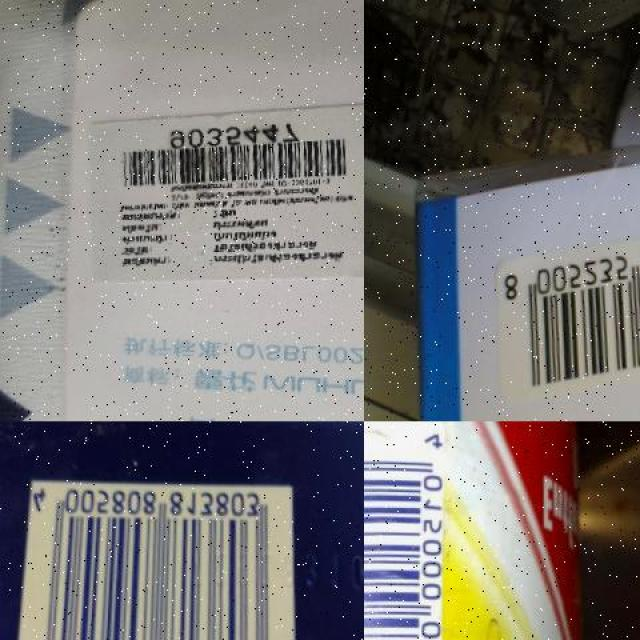Barcode: (13, 477, 311, 640), (493, 216, 640, 405), (364, 421, 459, 640), (112, 120, 364, 195)
